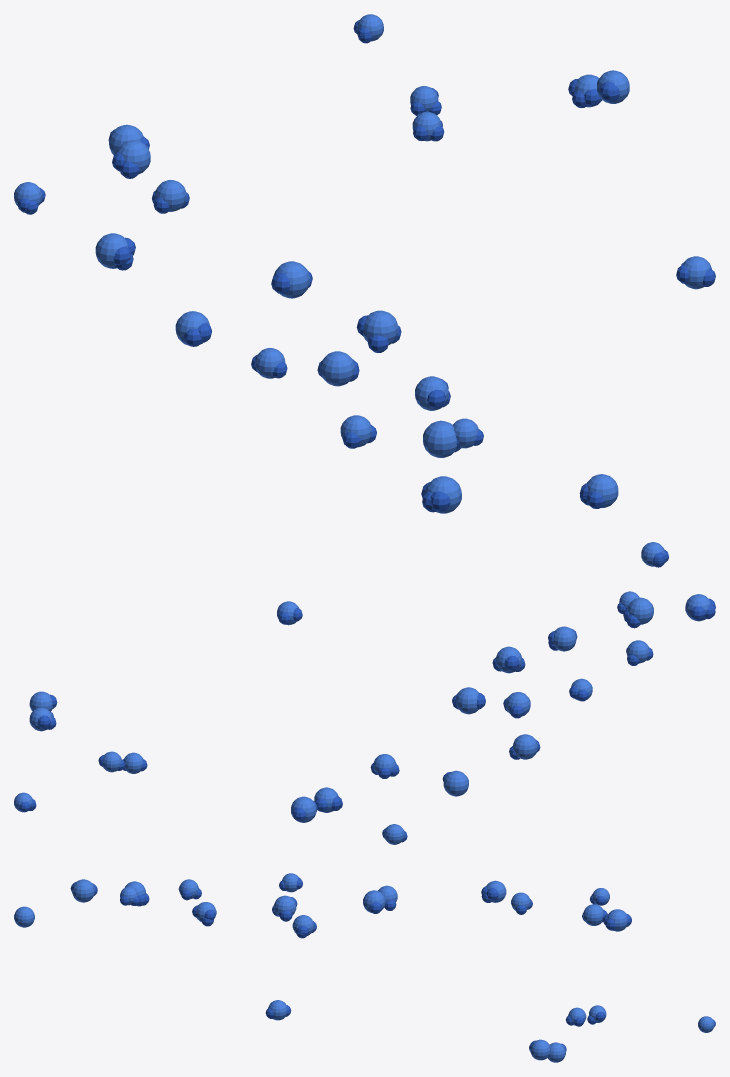
Rendered from CanopyW1.fbx.
The picture shows the model from 3 angles, top to bottom: view 1: azimuth 30°, elevation 25°; view 2: azimuth 150°, elevation 25°; view 3: azimuth 270°, elevation 25°; orthographic projection. The views are drawn at different scales.
Visible parts, largest first — view 1: CanopyW0.001; view 2: CanopyW0.001; view 3: CanopyW0.001.
Boxes of the visible parts, box(x1,y1,x2,y2) form: CanopyW0.001: box(14, 14, 715, 513); CanopyW0.001: box(14, 542, 715, 844); CanopyW0.001: box(14, 873, 715, 1062).
Bounding box in the file's own units: 17431 × 2243 × 29836.
